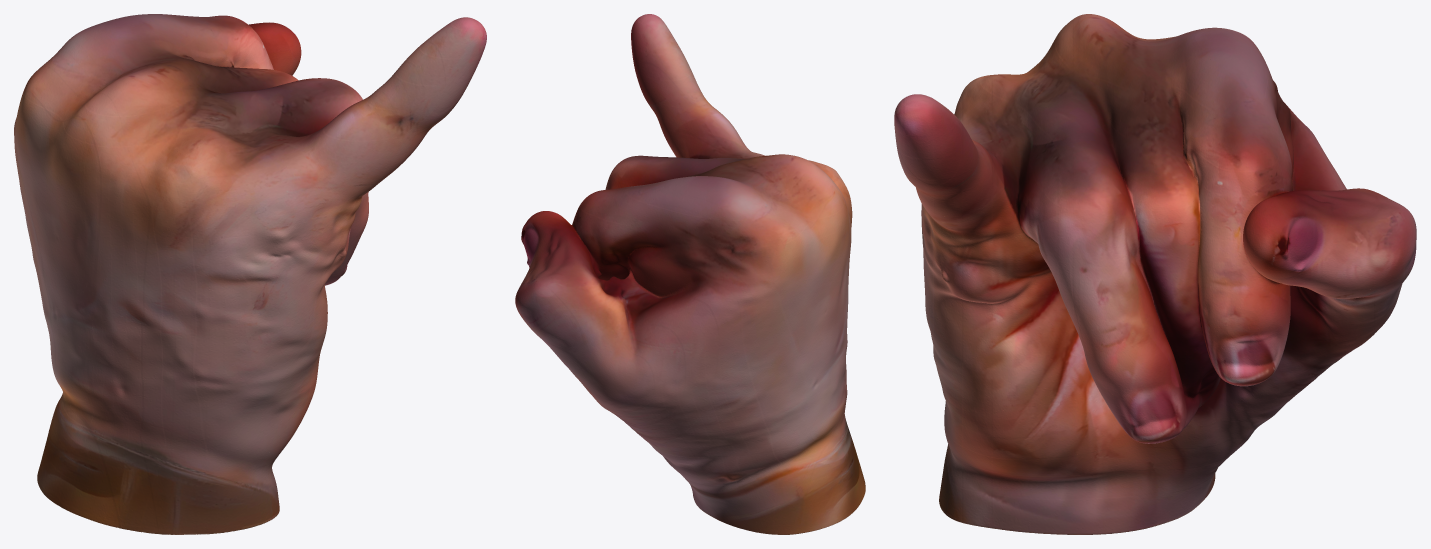
Rendered from letter_I.glb.
3 renders of one model, left to right at view 1: azimuth 30°, elevation 25°; view 2: azimuth 150°, elevation 25°; view 3: azimuth 270°, elevation 25°, orthographic. The views are drawn at different scales.
Visible parts, largest first — view 1: tripo_node_9b929ba5-2553-4691-87ea-74f27b4360fc; view 2: tripo_node_9b929ba5-2553-4691-87ea-74f27b4360fc; view 3: tripo_node_9b929ba5-2553-4691-87ea-74f27b4360fc.
Part boxes in pixels (left/top/right/bottom): tripo_node_9b929ba5-2553-4691-87ea-74f27b4360fc: left=14, top=14, right=486, bottom=534; tripo_node_9b929ba5-2553-4691-87ea-74f27b4360fc: left=515, top=14, right=865, bottom=534; tripo_node_9b929ba5-2553-4691-87ea-74f27b4360fc: left=894, top=14, right=1416, bottom=534.
Bounding box in the file's own units: 0.777 × 1 × 0.9155.
1 material, 1 textured.
